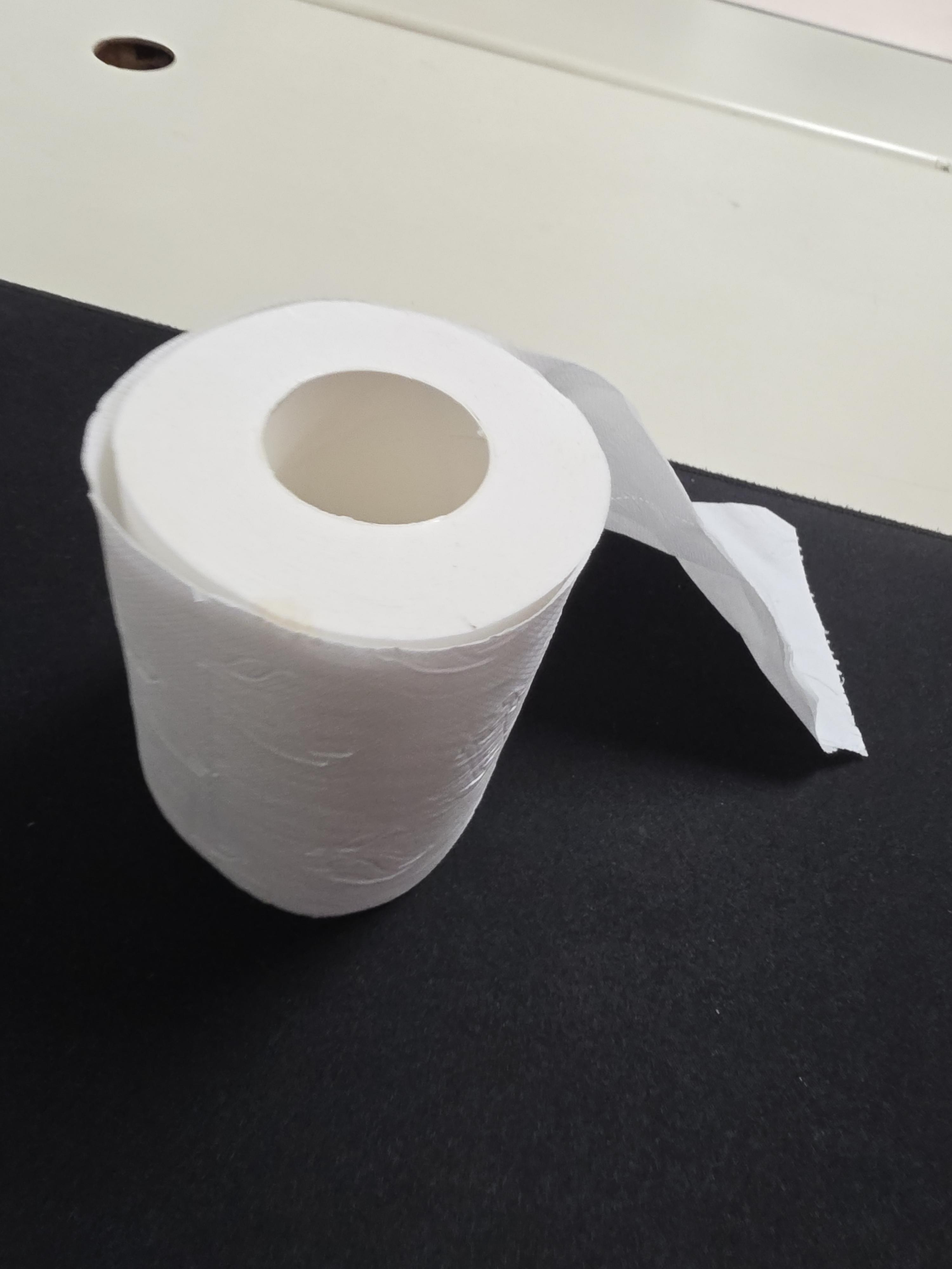tissue: (80, 298, 869, 920)
